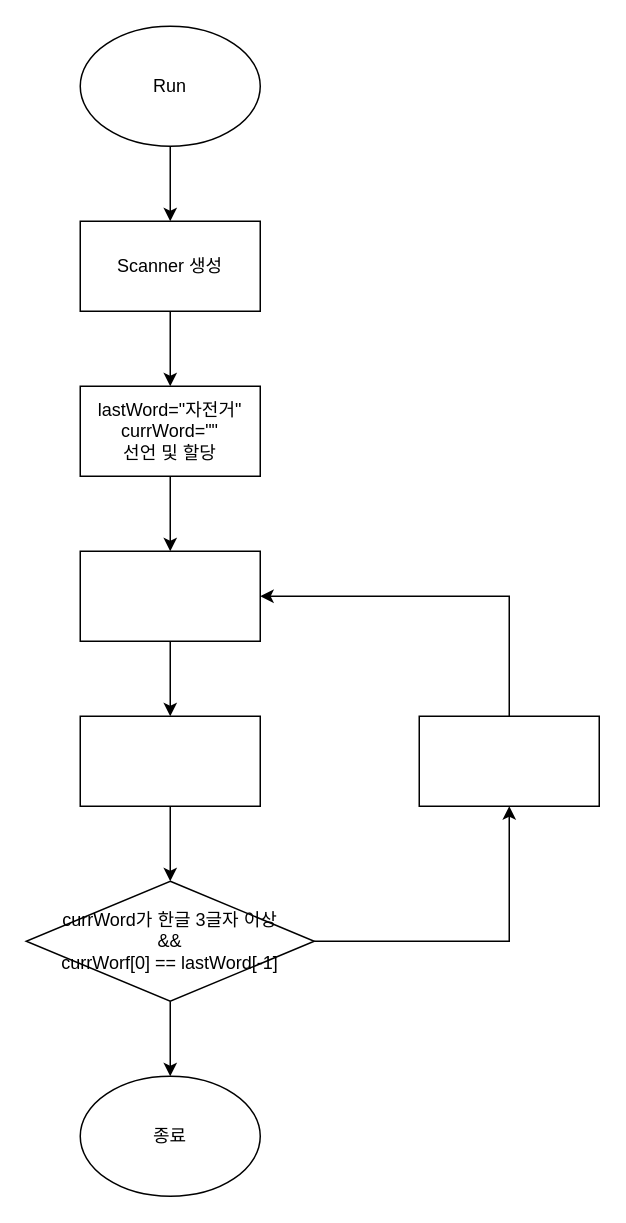
Image size: 626x1223. Some labels were removed from this diagram. The box of each missing label's shape, as (x1, y1, x2, y2) in pixels:
currWord 앞뒤 공백 제거: (79, 715, 260, 806)
lastWord=currWord: (418, 715, 599, 806)
Scanner -> currWord: (79, 550, 260, 641)
